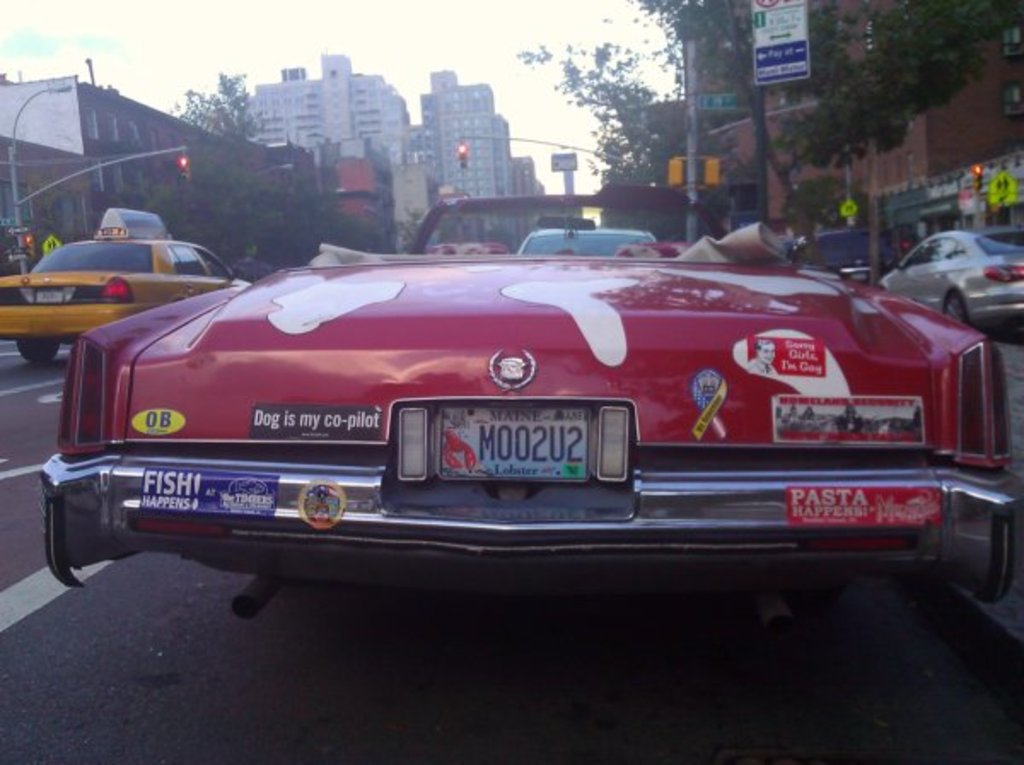Car: (30, 211, 979, 623), (5, 206, 250, 362), (878, 223, 1022, 322), (788, 225, 897, 285), (517, 225, 658, 254), (209, 254, 274, 281)
